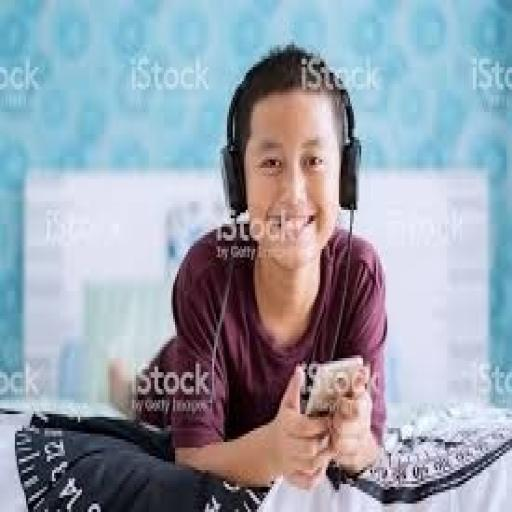listening_to_music: (218, 48, 363, 218)
